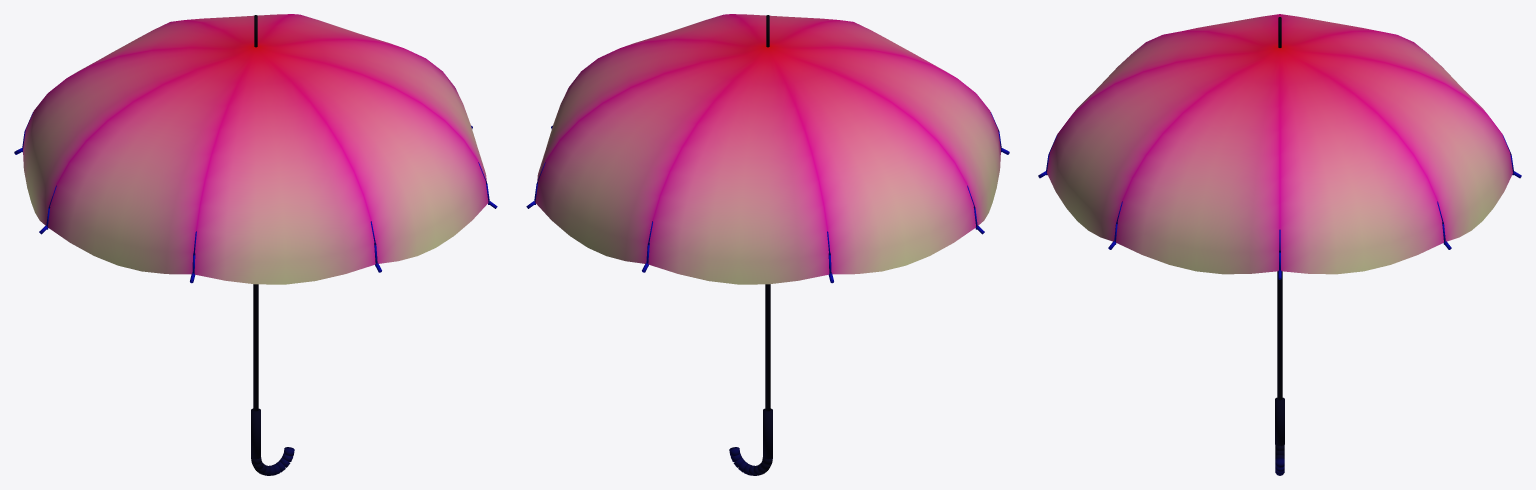
The model's file is umbrella.glb.
3 renders of one model, left to right at view 1: azimuth 30°, elevation 25°; view 2: azimuth 150°, elevation 25°; view 3: azimuth 270°, elevation 25°, orthographic. The views are drawn at different scales.
Visible parts, largest first — view 1: umbrella; view 2: umbrella; view 3: umbrella.
Boxes of the visible parts, x1=… form: umbrella: x1=14, y1=14, x2=497, y2=475; umbrella: x1=526, y1=14, x2=1009, y2=475; umbrella: x1=1038, y1=14, x2=1521, y2=475.
Size of the model in its own units: 1.16 by 1.19 by 1.16.
